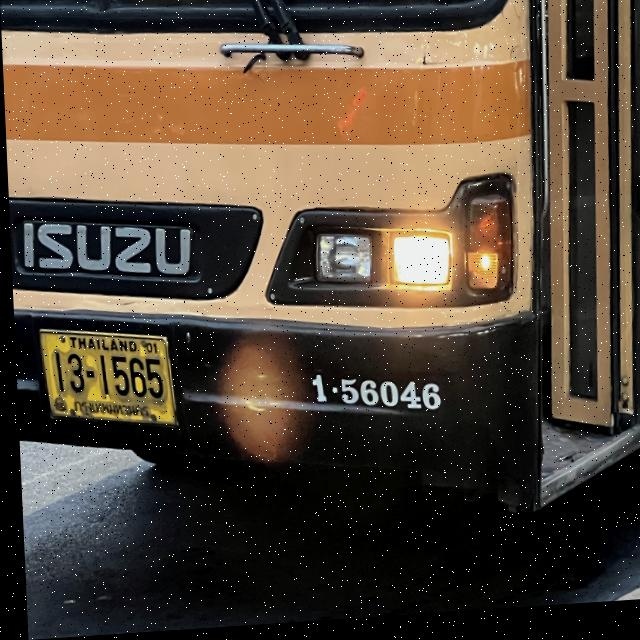BMTA-bus: (0, 0, 640, 555)
